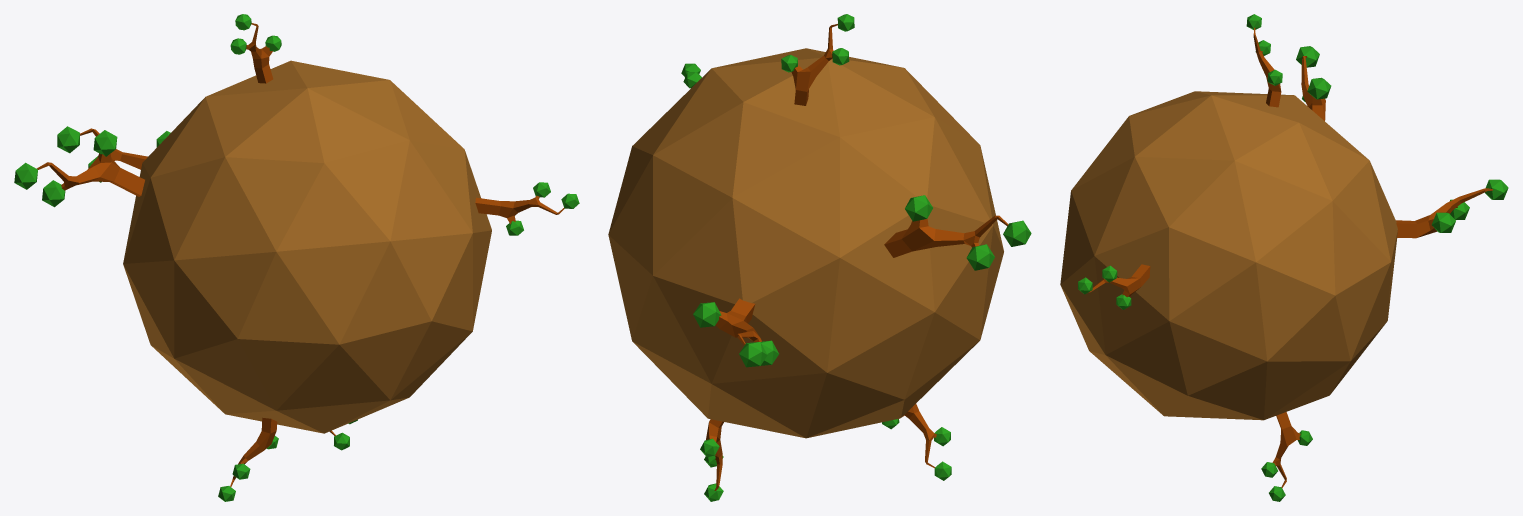
Rendered from planet.gltf.
3 views of the same model, side by side, from view 1: azimuth 30°, elevation 25°; view 2: azimuth 150°, elevation 25°; view 3: azimuth 270°, elevation 25° (orthographic). The views are drawn at different scales.
Parts seen in each view (by area): view 1: Icosphere.004; view 2: Icosphere.004; view 3: Icosphere.004.
Part boxes in pixels (x1,y1,x2,y2): Icosphere.004: [14, 14, 579, 501]; Icosphere.004: [608, 14, 1031, 501]; Icosphere.004: [1060, 14, 1508, 501].
Size of the model in its own units: 0.0979 by 0.1001 by 0.0931.
